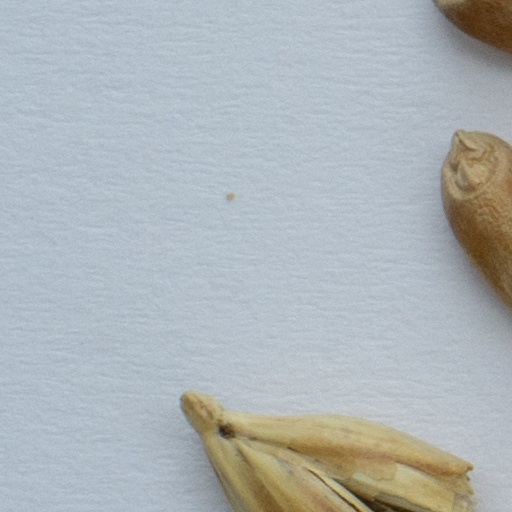Peel-poly: (182, 389, 479, 511)
